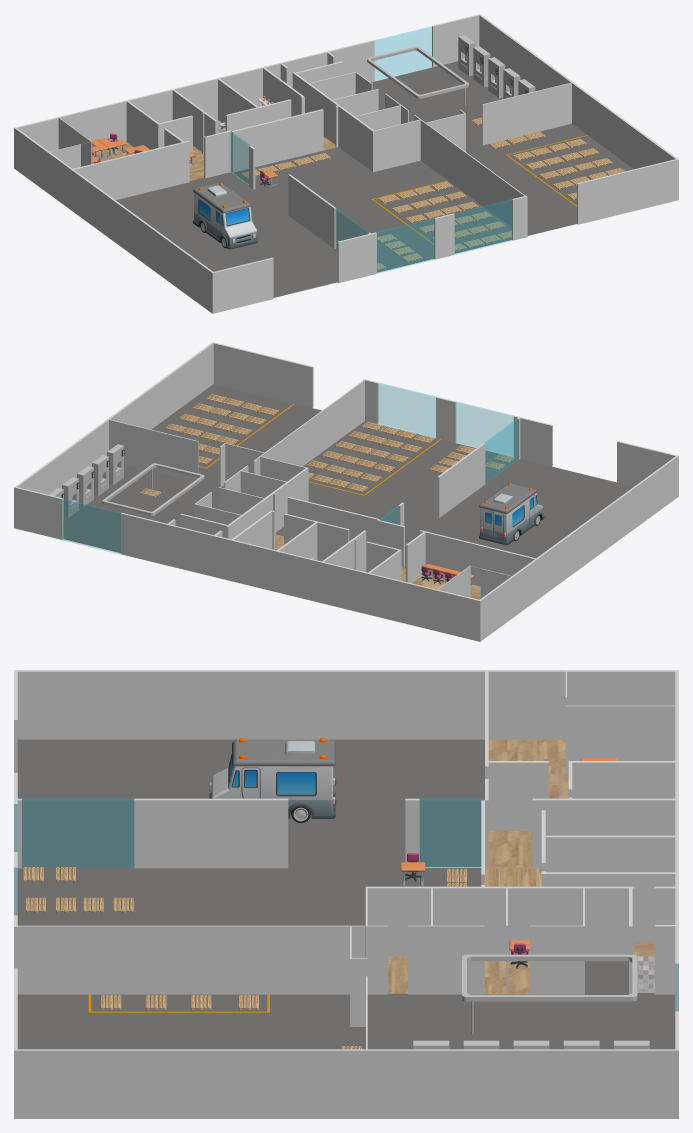
File: factory.glb
3 renders of one model, top to bottom at view 1: azimuth 30°, elevation 25°; view 2: azimuth 150°, elevation 25°; view 3: azimuth 270°, elevation 25°, orthographic. The views are drawn at different scales.
Parts seen in each view (by area): view 1: Walls, Floor.007, Floor.009, Windows, Floor.014, Floor.013, Van, Body1, Floor markers; view 2: Walls, Floor.007, Windows, Floor.009, Floor.013, Floor.014, Van, Body1; view 3: Walls, Floor.009, Floor.007, Floor.014, Floor.013, Windows, Van, Body1, Floor.001, Floor.003, Floor.005, Floor.012 (+3 smaller).
Boxes of the visible parts, bbox=[...] form: Walls: bbox=[14, 14, 678, 313]; Floor.007: bbox=[230, 147, 511, 272]; Floor.009: bbox=[116, 172, 337, 297]; Windows: bbox=[230, 26, 512, 273]; Floor.014: bbox=[466, 123, 633, 235]; Floor.013: bbox=[371, 61, 503, 149]; Van: bbox=[193, 182, 257, 249]; Body1: bbox=[367, 46, 468, 98]; Floor markers: bbox=[371, 135, 587, 244]; Walls: bbox=[14, 342, 678, 641]; Floor.007: bbox=[276, 421, 518, 542]; Windows: bbox=[63, 383, 518, 554]; Floor.009: bbox=[404, 459, 633, 568]; Floor.013: bbox=[63, 464, 224, 552]; Floor.014: bbox=[151, 384, 321, 486]; Van: bbox=[479, 483, 544, 544]; Body1: bbox=[102, 463, 204, 515]; Walls: bbox=[14, 670, 678, 1118]; Floor.009: bbox=[17, 739, 484, 866]; Floor.007: bbox=[17, 867, 481, 957]; Floor.014: bbox=[17, 994, 365, 1049]; Floor.013: bbox=[367, 961, 675, 1049]; Windows: bbox=[14, 799, 678, 1011]; Van: bbox=[209, 738, 336, 818]; Body1: bbox=[462, 954, 637, 1001]; Floor.001: bbox=[488, 739, 568, 798]; Floor.003: bbox=[488, 831, 532, 868]; Floor.005: bbox=[485, 868, 541, 886]; Floor.012: bbox=[388, 956, 407, 993].
Bounding box in the file's own units: 35.95 × 3.03 × 26.54.
24 materials, 13 textured.
